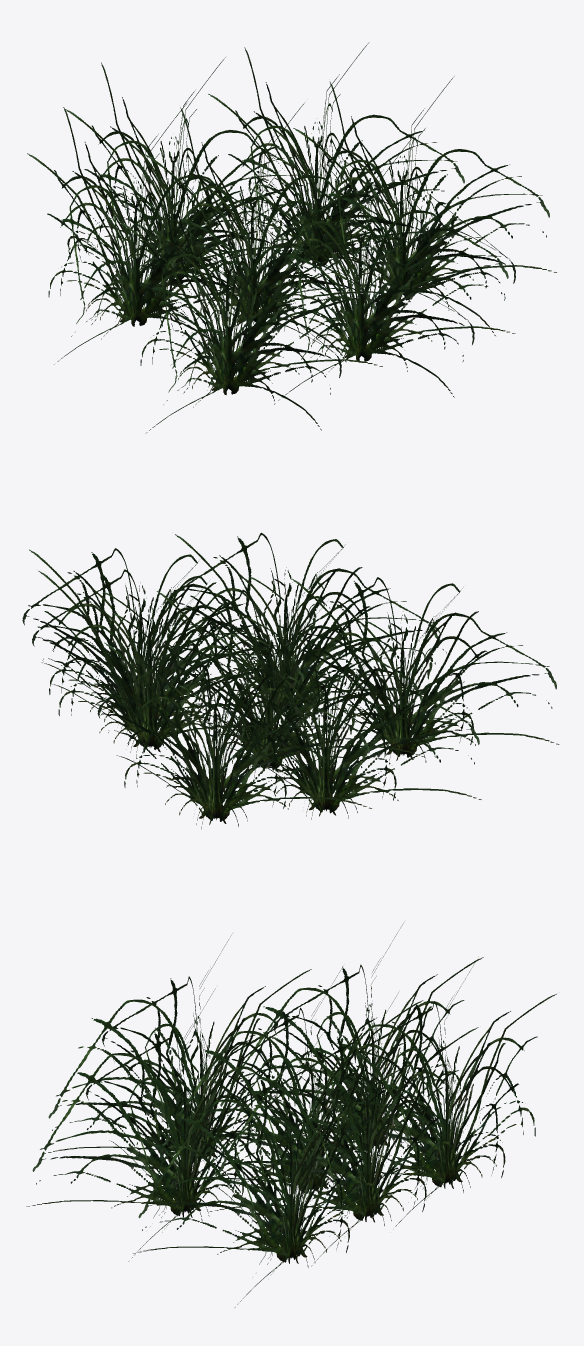
The model's file is grass.obj.
The picture shows the model from 3 angles, top to bottom: view 1: azimuth 30°, elevation 25°; view 2: azimuth 150°, elevation 25°; view 3: azimuth 270°, elevation 25°; orthographic projection.
Visible parts, largest first — view 1: grass; view 2: grass; view 3: grass.
Part boxes in pixels (box(x1,y1,x2,y2)): grass: box(27, 42, 556, 433); grass: box(22, 532, 559, 829); grass: box(26, 923, 556, 1307).
Bounding box in the file's own units: 355 × 162 × 339.
1 material, 1 textured.
